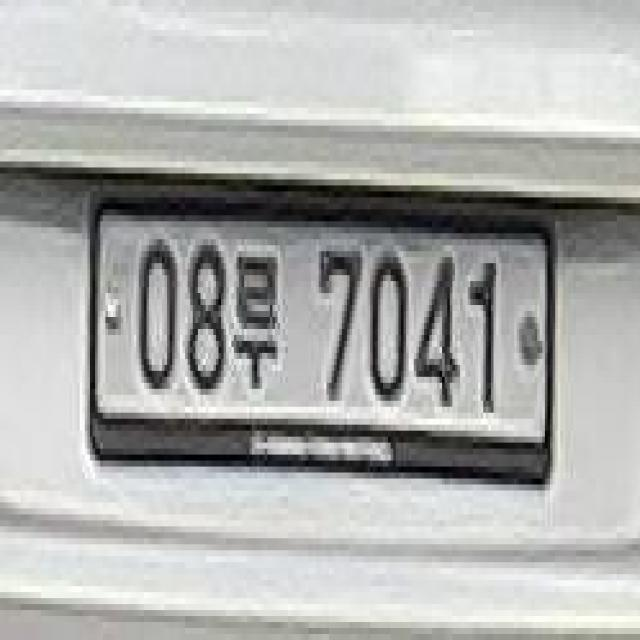illegal_plate: (85, 180, 561, 505)
